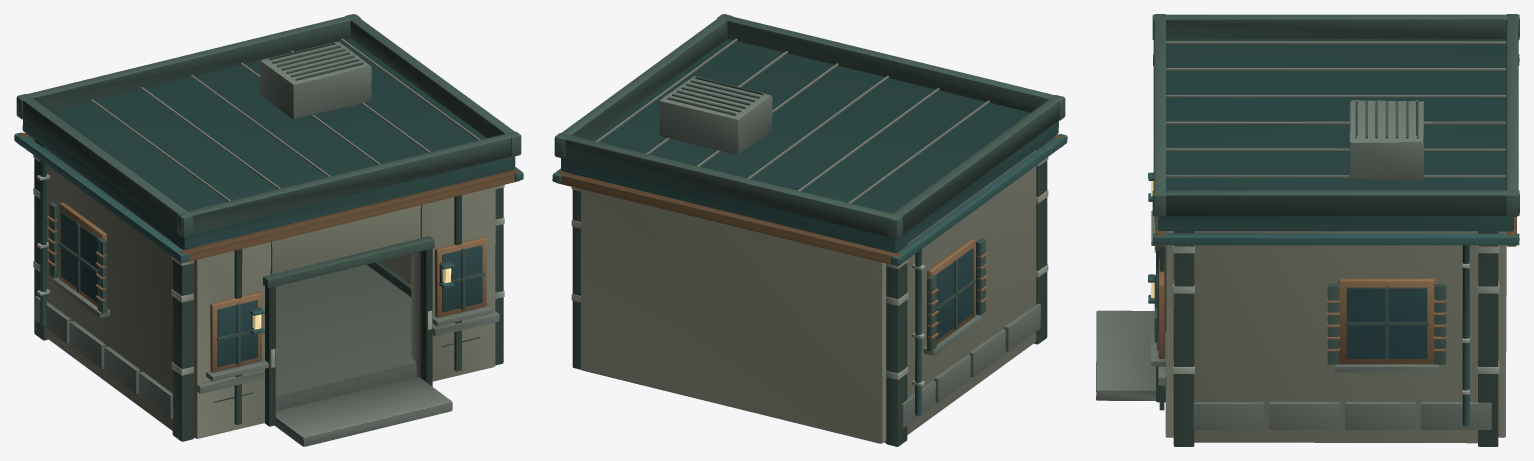
File: kf-security-balanced.glb
The picture shows the model from 3 angles, left to right: view 1: azimuth 30°, elevation 25°; view 2: azimuth 150°, elevation 25°; view 3: azimuth 270°, elevation 25°; orthographic projection. The views are drawn at different scales.
Visible parts, largest first — view 1: Roof Roof metal, Shell Painted plaster, Shell Foundation, RoofDetail Timber trim, Shell Timber trim, Shell Warm wood, Shell Window glass, RoofDetail Foundation, Shell Roof metal, RoofDetail Brushed hardware, Shell Brushed hardware; view 2: Shell Painted plaster, Roof Roof metal, RoofDetail Timber trim, Shell Timber trim, Shell Warm wood, RoofDetail Foundation, Shell Foundation, Shell Roof metal, RoofDetail Brushed hardware, Shell Window glass, Shell Brushed hardware; view 3: Roof Roof metal, Shell Painted plaster, RoofDetail Timber trim, Shell Foundation, Shell Timber trim, Shell Roof metal, Shell Window glass, RoofDetail Brushed hardware, RoofDetail Foundation, Shell Warm wood, Shell Brushed hardware.
Boxes of the visible parts, x1,y1,x2,y2 form: Roof Roof metal: (22,38,515,249); Shell Painted plaster: (45,148,495,438); Shell Foundation: (35,264,499,446); RoofDetail Timber trim: (16,14,521,236); Shell Timber trim: (34,140,503,441); Shell Warm wood: (18,133,519,372); Shell Window glass: (61,211,482,366); RoofDetail Foundation: (260,42,371,118); Shell Roof metal: (14,132,523,334); RoofDetail Brushed hardware: (91,38,480,201); Shell Brushed hardware: (33,155,504,375); Shell Painted plaster: (581,150,1036,443); Roof Roof metal: (560,38,1058,252); RoofDetail Timber trim: (554,14,1065,239); Shell Timber trim: (572,142,1047,446); Shell Warm wood: (556,134,1062,344); RoofDetail Foundation: (659,76,772,154); Shell Foundation: (882,303,1040,442); Shell Roof metal: (552,134,1067,415); RoofDetail Brushed hardware: (596,38,989,203); Shell Window glass: (936,248,973,340); Shell Brushed hardware: (571,157,1048,386); Roof Roof metal: (1158,39,1514,231); Shell Painted plaster: (1165,231,1506,443); RoofDetail Timber trim: (1152,14,1519,216); Shell Foundation: (1096,210,1491,429); Shell Timber trim: (1154,216,1498,446); Shell Roof metal: (1148,54,1519,426); Shell Window glass: (1157,266,1427,358); RoofDetail Brushed hardware: (1166,41,1505,177); RoofDetail Foundation: (1349,100,1423,180); Shell Warm wood: (1155,216,1516,364); Shell Brushed hardware: (1154,231,1499,394).
Bounding box in the file's own units: 6.88 × 4.91 × 6.69.
